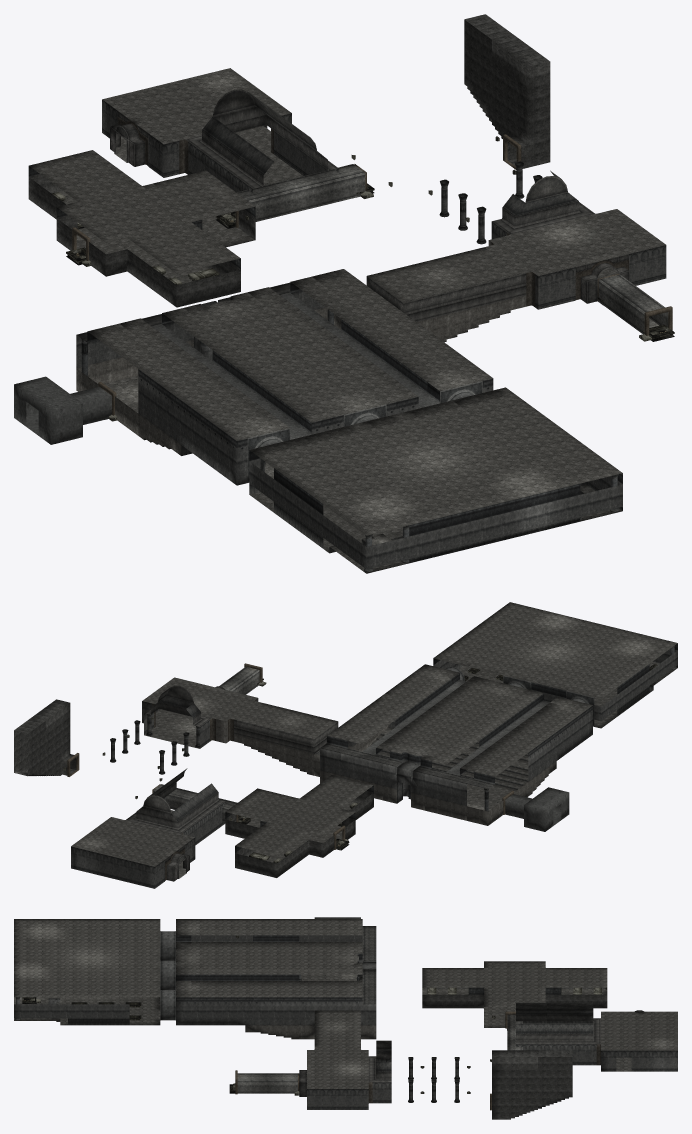
3 views of the same model, one above another, from view 1: azimuth 30°, elevation 25°; view 2: azimuth 150°, elevation 25°; view 3: azimuth 270°, elevation 25° (orthographic). The views are drawn at different scales.
Parts seen in each view (by area): view 1: Chunk-0_Mesh-0, Chunk-66_Mesh-0, Chunk-71_Mesh-0, Chunk-65_Mesh-0, Chunk-72_Mesh-0, Chunk-67_Mesh-0, Chunk-40_Mesh-0, Chunk-34_Mesh-0, Chunk-12_Mesh-3, Chunk-26_Mesh-0, Chunk-31_Mesh-1, Chunk-32_Mesh-1 (+56 smaller); view 2: Chunk-0_Mesh-0, Chunk-66_Mesh-0, Chunk-71_Mesh-0, Chunk-65_Mesh-0, Chunk-61_Mesh-1, Chunk-32_Mesh-1, Chunk-70_Mesh-0, Chunk-26_Mesh-0, Chunk-11_Mesh-3, Chunk-12_Mesh-3, Chunk-31_Mesh-1, Chunk-21_Mesh-0 (+55 smaller); view 3: Chunk-71_Mesh-0, Chunk-0_Mesh-0, Chunk-66_Mesh-0, Chunk-24_Mesh-0, Chunk-70_Mesh-0, Chunk-61_Mesh-1, Chunk-59_Mesh-1, Chunk-29_Mesh-0, Chunk-19_Mesh-0, Chunk-40_Mesh-0, Chunk-34_Mesh-0, Chunk-67_Mesh-0 (+55 smaller).
Part boxes in pixels (box(x1,y1,x2,y2)): Chunk-0_Mesh-0: box(328, 418, 525, 535); Chunk-66_Mesh-0: box(57, 177, 203, 274); Chunk-71_Mesh-0: box(464, 14, 550, 168); Chunk-65_Mesh-0: box(14, 376, 111, 444); Chunk-72_Mesh-0: box(236, 164, 365, 221); Chunk-67_Mesh-0: box(153, 170, 255, 247); Chunk-40_Mesh-0: box(484, 209, 641, 260); Chunk-34_Mesh-0: box(503, 227, 665, 275); Chunk-12_Mesh-3: box(274, 455, 376, 548); Chunk-26_Mesh-0: box(272, 356, 384, 408); Chunk-31_Mesh-1: box(184, 292, 297, 344); Chunk-32_Mesh-1: box(109, 308, 233, 403); Chunk-0_Mesh-0: box(485, 631, 614, 698); Chunk-66_Mesh-0: box(259, 792, 354, 856); Chunk-71_Mesh-0: box(14, 699, 76, 775); Chunk-65_Mesh-0: box(505, 787, 569, 831); Chunk-61_Mesh-1: box(71, 817, 152, 856); Chunk-32_Mesh-1: box(432, 737, 506, 809); Chunk-70_Mesh-0: box(14, 721, 75, 775); Chunk-26_Mesh-0: box(448, 685, 521, 751); Chunk-11_Mesh-3: box(449, 623, 515, 680); Chunk-12_Mesh-3: box(582, 655, 649, 716); Chunk-31_Mesh-1: box(390, 727, 464, 761); Chunk-21_Mesh-0: box(424, 709, 489, 776); Chunk-71_Mesh-0: box(492, 1050, 572, 1119); Chunk-0_Mesh-0: box(68, 935, 129, 1004); Chunk-66_Mesh-0: box(468, 961, 561, 1011); Chunk-24_Mesh-0: box(191, 997, 252, 1025); Chunk-70_Mesh-0: box(538, 1057, 572, 1108); Chunk-61_Mesh-1: box(601, 1031, 677, 1050); Chunk-59_Mesh-1: box(601, 1050, 677, 1071); Chunk-29_Mesh-0: box(299, 997, 376, 1025); Chunk-19_Mesh-0: box(253, 997, 299, 1025); Chunk-40_Mesh-0: box(337, 1046, 368, 1088); Chunk-34_Mesh-0: box(307, 1046, 337, 1088); Chunk-67_Mesh-0: box(484, 990, 545, 1027).
Size of the model in its own units: 12000 by 2400 by 17230.
33 materials, 33 textured.
